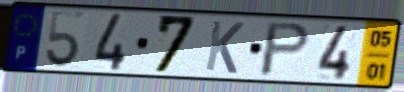4: (314, 23, 354, 82), (92, 11, 128, 73)
5: (43, 8, 92, 70)
7: (153, 12, 198, 75)
K: (202, 19, 246, 76)
P: (256, 21, 314, 79)
